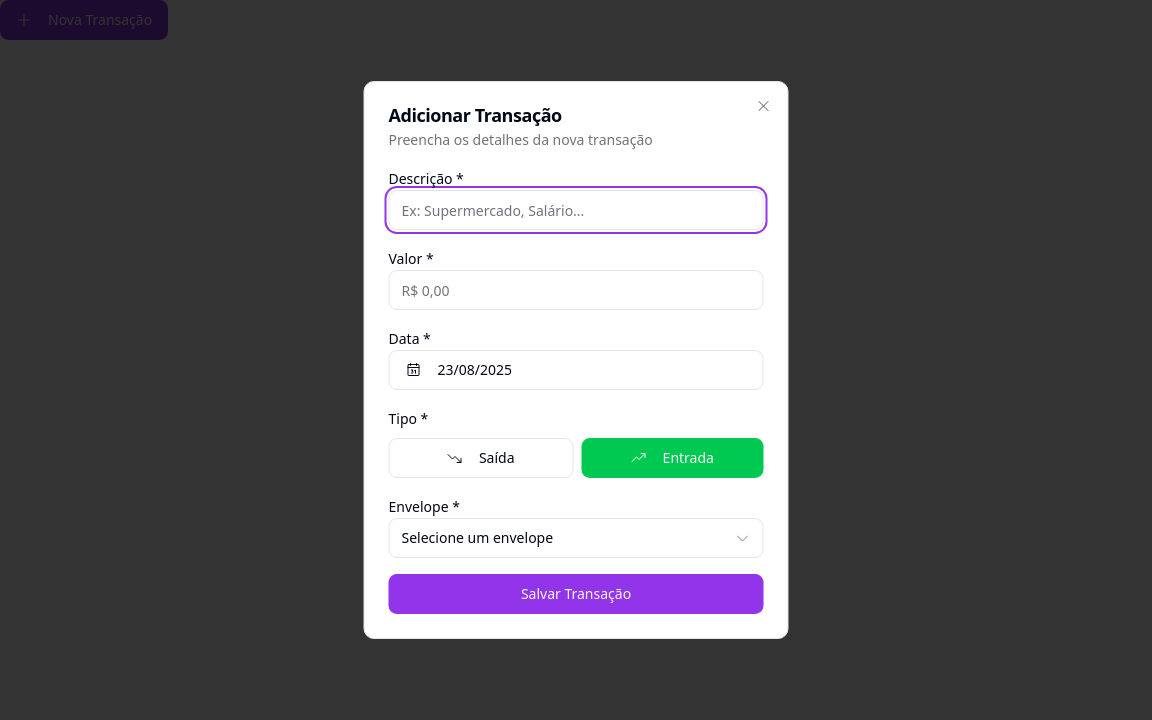
Test case: TransactionDialog - Integração Simples › Fluxo Básico de Criação › deve validar campos obrigatórios
Tentar submeter sem preencher
Click the button "Salvar Transação" at (576, 594), box [388,574,764,614]
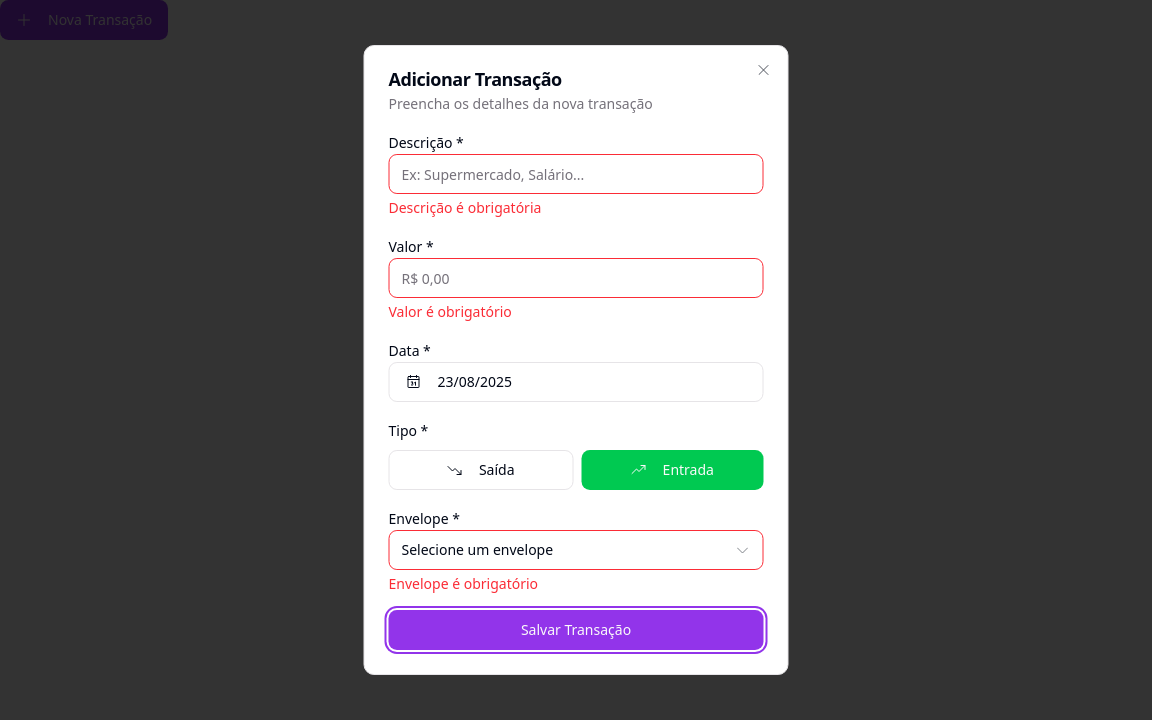
Now the text "Descrição é obrigatória" is shown, box [388,198,541,217]
